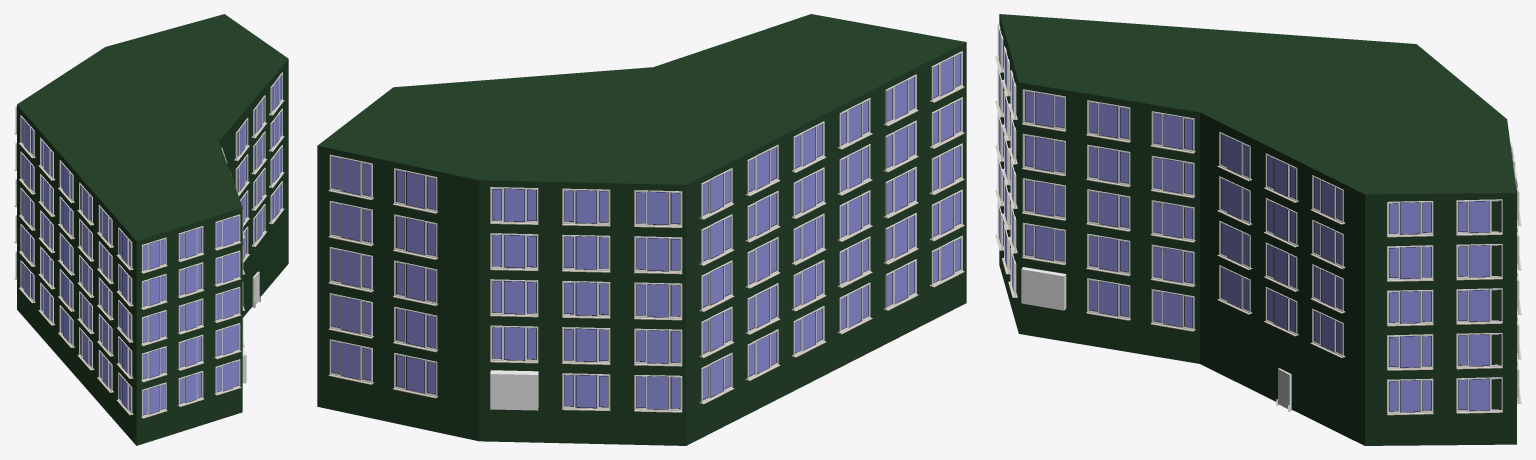
Rendered from ArcadiumComplexIII.fbx.
3 views of the same model, side by side, from view 1: azimuth 30°, elevation 25°; view 2: azimuth 150°, elevation 25°; view 3: azimuth 270°, elevation 25° (orthographic). The views are drawn at different scales.
Visible parts, largest first — view 1: ArcadiumComplexIII, Window.003, Window.001, Window.006, Window, Window.002; view 2: ArcadiumComplexIII, Window.003, Window.002, Window.004, CTRL_Hole.001; view 3: ArcadiumComplexIII, Window, Window.005, Window.006, Window.001, CTRL_Hole, Window.004.
Part boxes in pixels (box(x1,y1,x2,y2)): ArcadiumComplexIII: box(17, 14, 288, 445); Window.003: box(19, 115, 133, 415); Window.001: box(140, 214, 241, 418); Window.006: box(234, 72, 284, 262); Window: box(221, 147, 244, 383); Window.002: box(14, 106, 16, 279); ArcadiumComplexIII: box(317, 14, 966, 445); Window.003: box(699, 51, 964, 404); Window.002: box(490, 187, 682, 412); Window.004: box(328, 154, 438, 398); CTRL_Hole.001: box(490, 370, 538, 410); ArcadiumComplexIII: box(999, 14, 1516, 445); Window: box(1022, 89, 1195, 331); Window.005: box(1387, 199, 1502, 415); Window.006: box(1217, 132, 1345, 358); Window.001: box(995, 23, 1017, 297); CTRL_Hole: box(1021, 267, 1066, 310); Window.004: box(1510, 142, 1521, 403).
Bounding box in the file's own units: 23.59 × 15.09 × 28.43.
